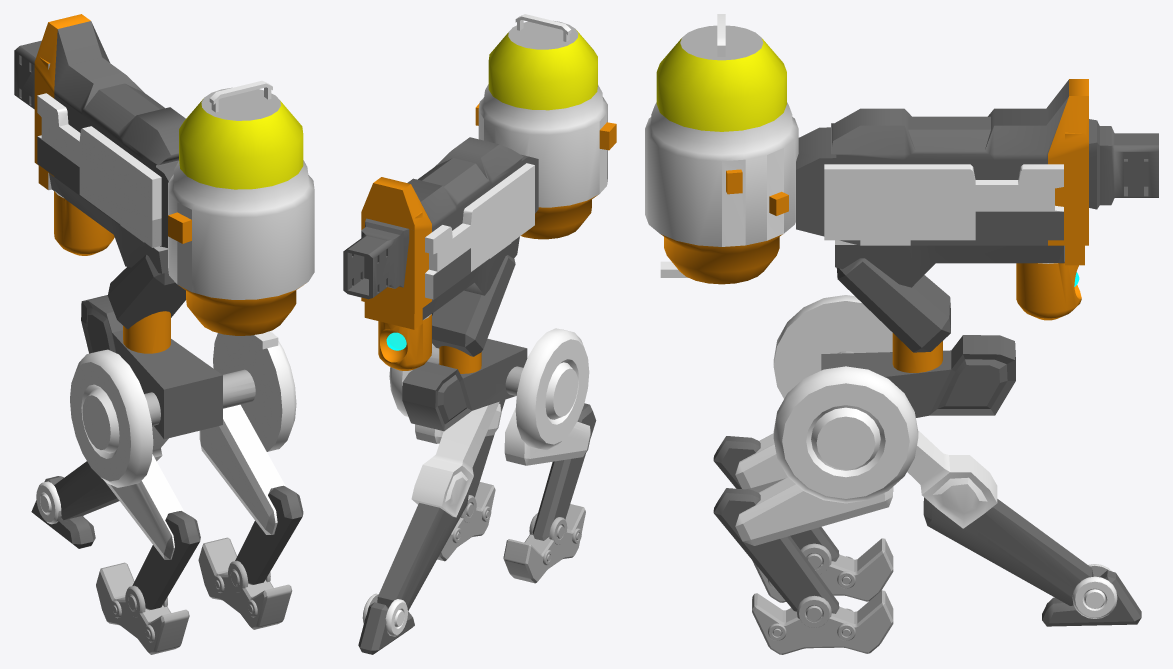
File: torreta_.glb
3 views of the same model, side by side, from view 1: azimuth 30°, elevation 25°; view 2: azimuth 150°, elevation 25°; view 3: azimuth 270°, elevation 25° (orthographic). The views are drawn at different scales.
Parts seen in each view (by area): view 1: Object_7, Object_6, Object_5, Object_2, Object_8, Object_3; view 2: Object_6, Object_7, Object_8, Object_5, Object_2, Object_3; view 3: Object_6, Object_7, Object_2, Object_8, Object_5, Object_3.
Boxes of the visible parts, bbox=[...] form: Object_7: bbox=[37, 80, 314, 559]; Object_6: bbox=[14, 21, 303, 609]; Object_5: bbox=[48, 63, 292, 654]; Object_2: bbox=[36, 87, 285, 559]; Object_8: bbox=[34, 14, 303, 353]; Object_3: bbox=[179, 98, 303, 189]; Object_6: bbox=[343, 137, 596, 654]; Object_7: bbox=[362, 14, 607, 636]; Object_8: bbox=[361, 103, 616, 373]; Object_5: bbox=[367, 20, 591, 611]; Object_2: bbox=[391, 20, 606, 634]; Object_3: bbox=[488, 30, 597, 110]; Object_6: bbox=[713, 80, 1158, 626]; Object_7: bbox=[645, 14, 1117, 618]; Object_2: bbox=[660, 45, 1114, 617]; Object_8: bbox=[661, 79, 1088, 372]; Object_5: bbox=[680, 25, 1108, 654]; Object_3: bbox=[656, 38, 786, 131].
Bounding box in the file's own units: 0.333 × 1.05 × 0.822.
